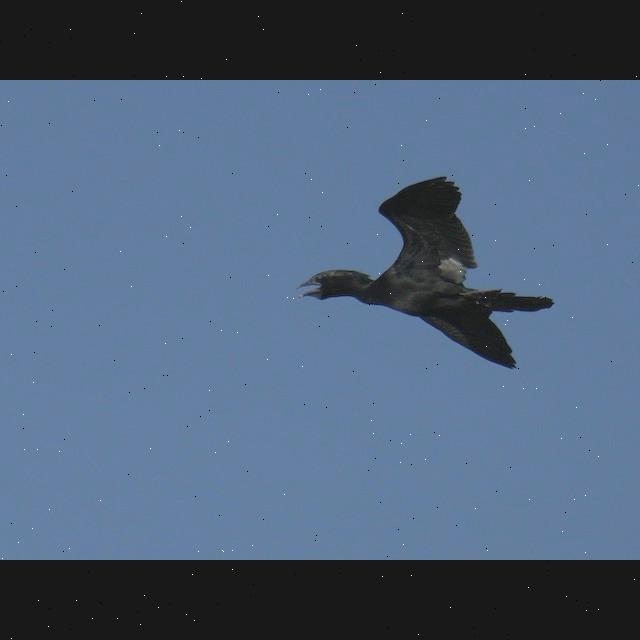cormorant: (292, 176, 566, 367)
